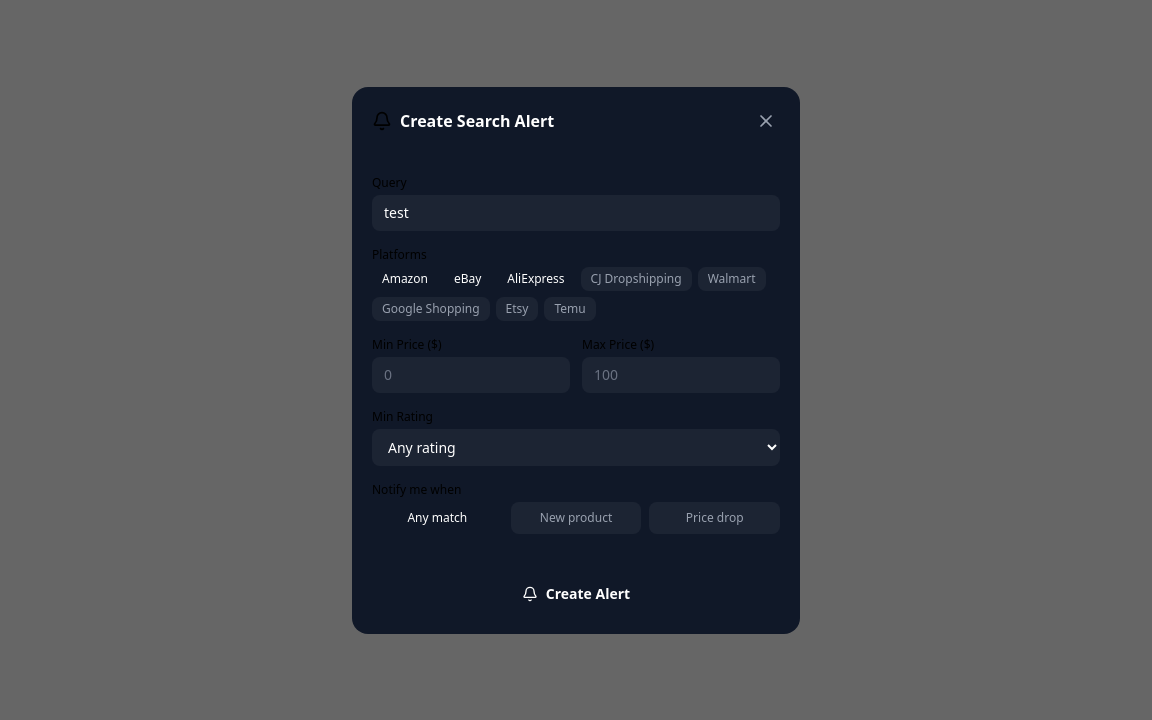
Scenario: SearchAlertModal › shows price drop threshold when price_drop selected
The image size is (1152, 720).
Click the button "Price drop" at (715, 518), box 649,502 -> 780,534
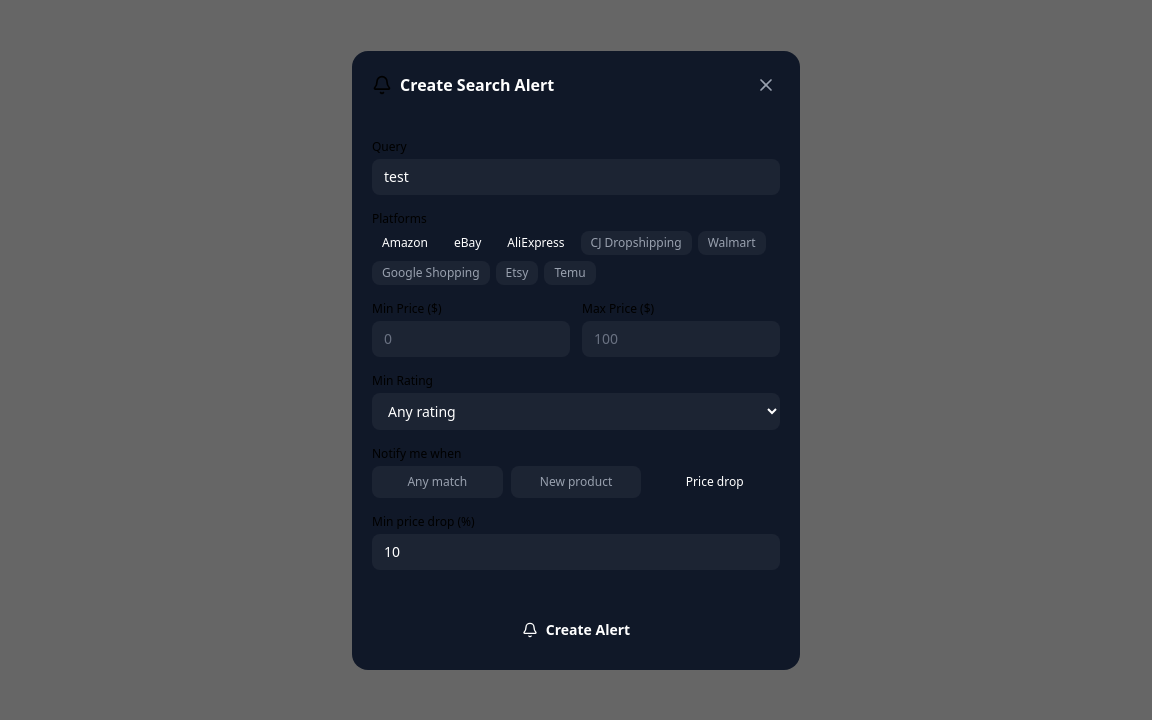
Now the text "Min price drop (%)" is shown, box 372,512 -> 475,530
